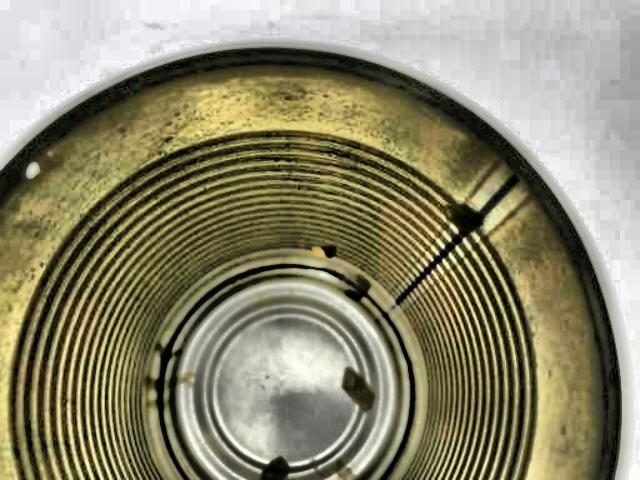Almennt: (0, 38, 640, 480)
